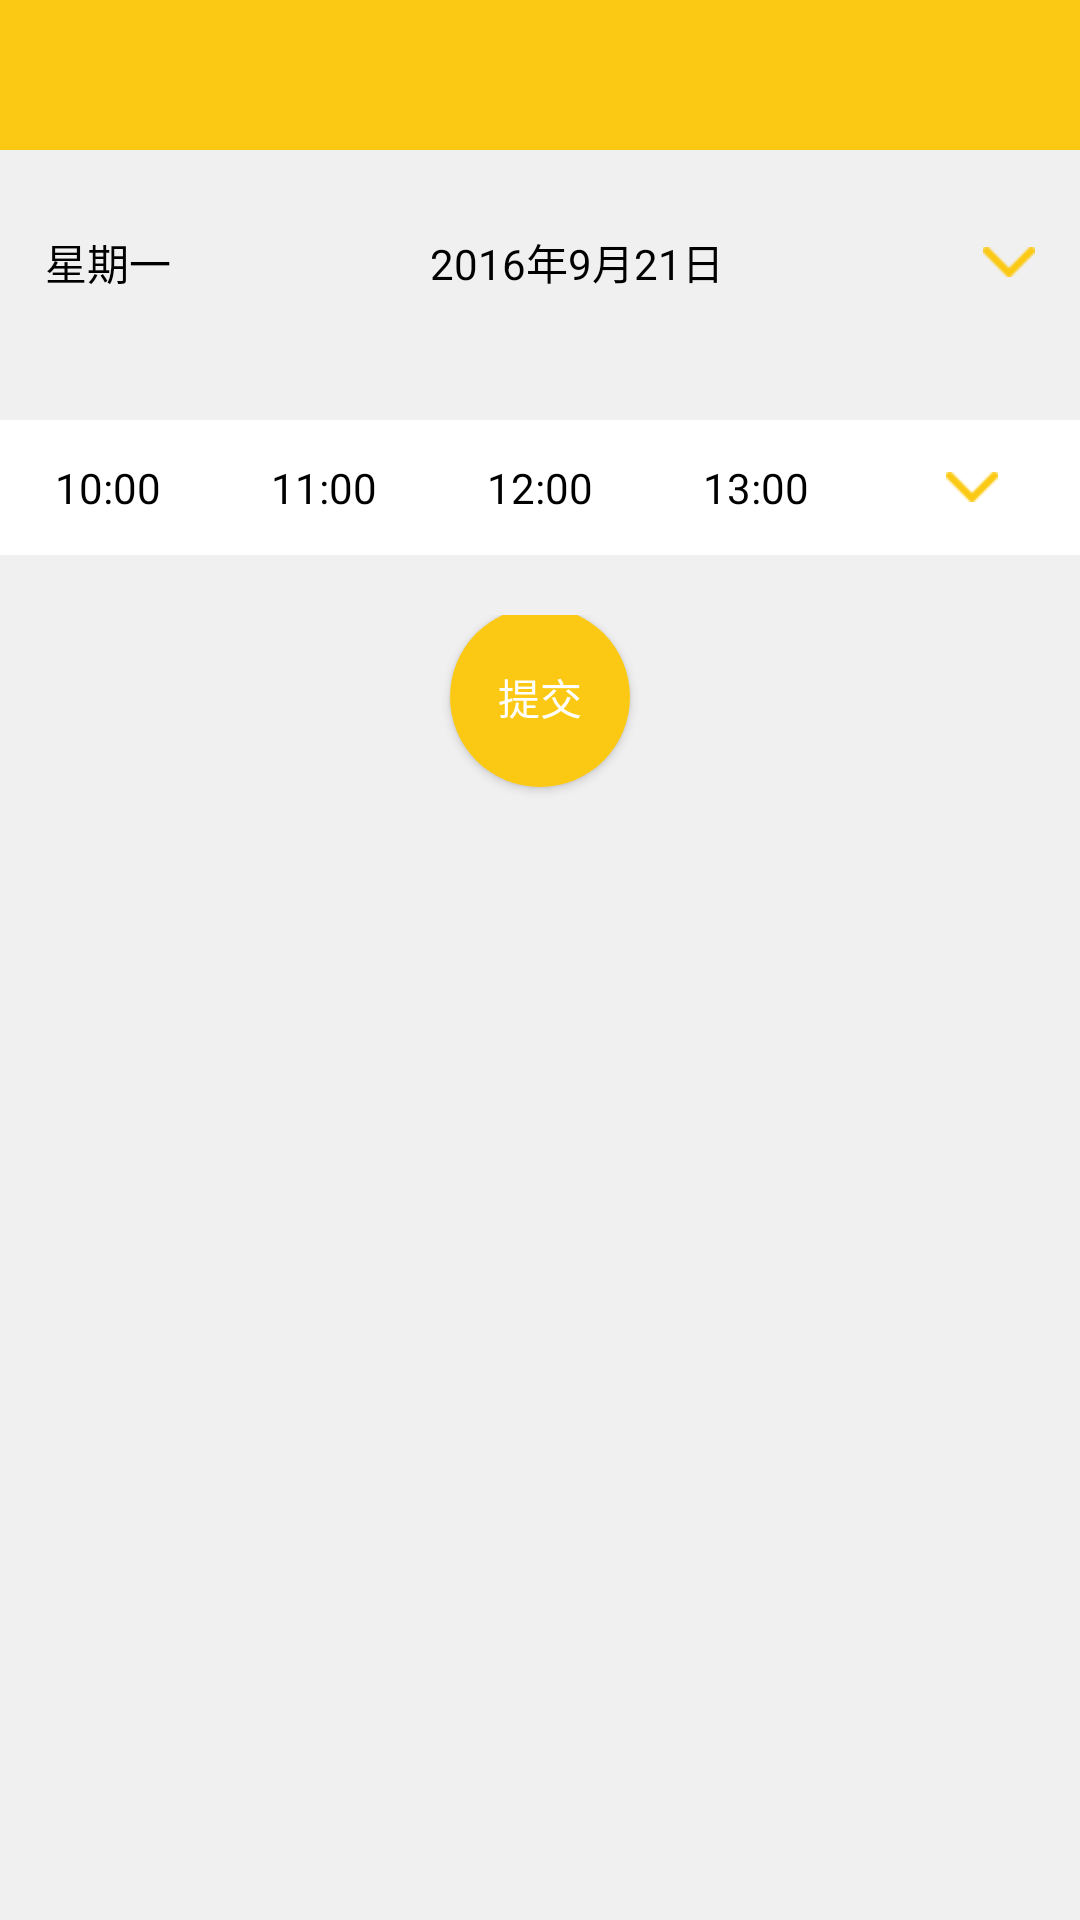

Icons on this 1080×1920 Android screen, each with its box as (x1, y1, x2, y2):
down arrow: (983, 247, 1035, 277), (946, 472, 998, 502)
